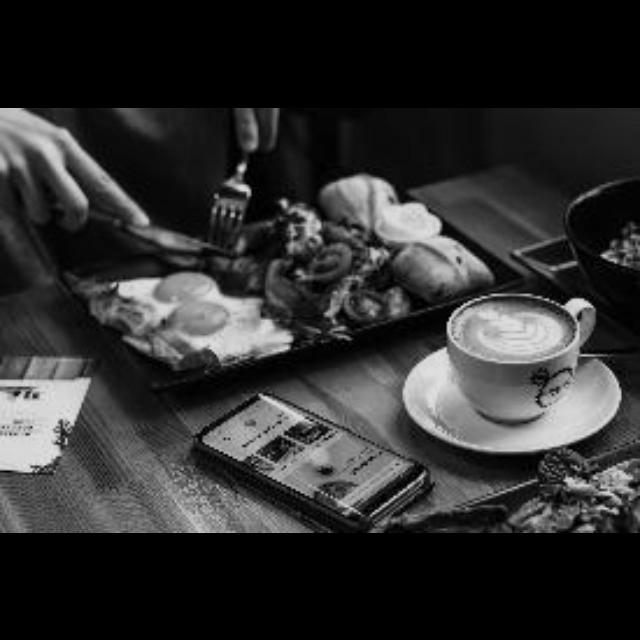fake: (175, 385, 444, 533)
